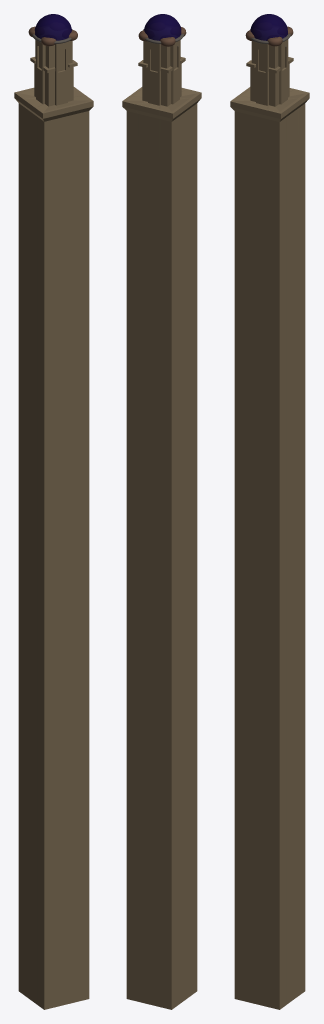
File: TallDome1.fbx
The picture shows the model from 3 angles, left to right: view 1: azimuth 30°, elevation 25°; view 2: azimuth 150°, elevation 25°; view 3: azimuth 330°, elevation 25°; orthographic projection.
Visible parts, largest first — view 1: TallObsorb; view 2: TallObsorb; view 3: TallObsorb.
Boxes of the visible parts, box(x1,y1,x2,y2) form: TallObsorb: box(14, 14, 93, 1009); TallObsorb: box(122, 14, 201, 1009); TallObsorb: box(230, 14, 309, 1009).
Size of the model in its own units: 7.59 by 140 by 7.45.
